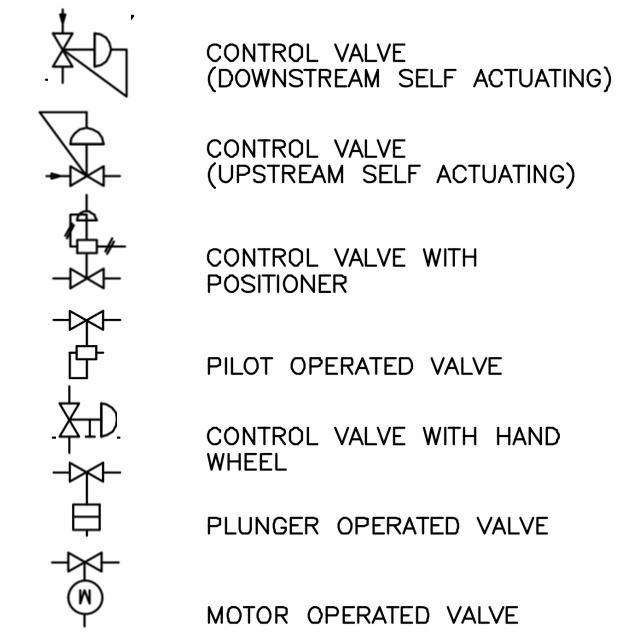ControlValveWithHandWheel: (54, 388, 121, 454)
DownstreamSelfAcutatingControlValve: (47, 9, 135, 98)
MotorOperatedValve: (50, 549, 123, 632)
PilotOperatedValve: (51, 307, 123, 383)
PlungerOperatedValve: (51, 461, 123, 540)
PositionerControlValve: (50, 194, 129, 293)
UpstreamSelfAcutatingControlValve: (35, 107, 124, 190)
